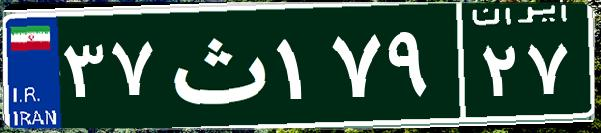1: (273, 28, 330, 110)
2: (475, 38, 525, 113)
3: (57, 26, 110, 107)
7: (330, 28, 385, 110), (110, 28, 158, 105), (525, 38, 570, 115)
9: (385, 28, 445, 110)
ث: (158, 15, 273, 115)
